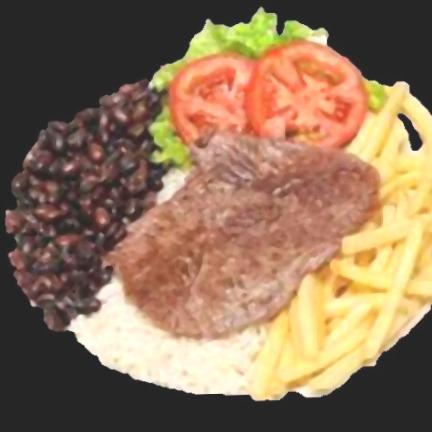beans: (5, 80, 168, 331)
meat: (109, 134, 380, 338)
potato: (250, 83, 431, 399)
rice: (70, 279, 266, 395)
salad: (153, 9, 327, 91)
tomato: (168, 40, 369, 148)
